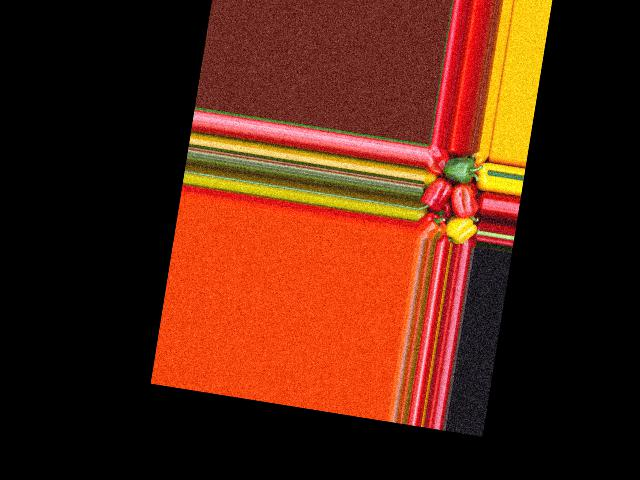bell_pepper: (441, 212, 480, 247)
